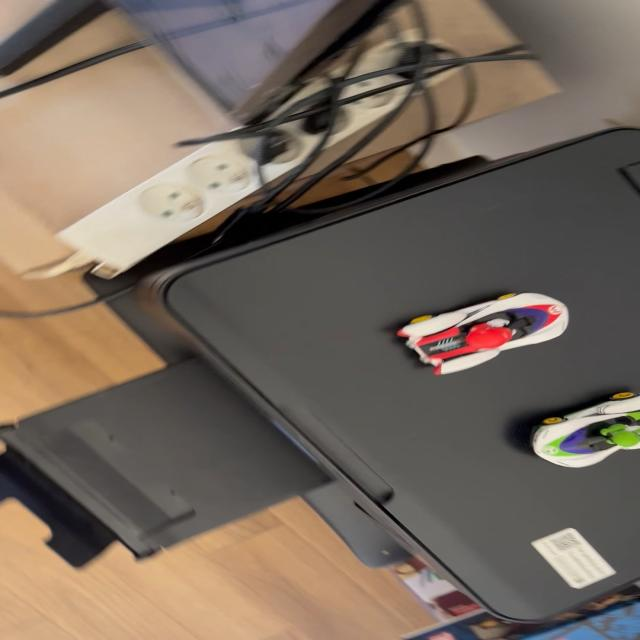mario: (387, 285, 592, 384)
yoshi: (515, 381, 638, 475)
